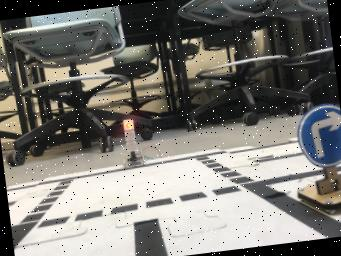right: (297, 103, 341, 214), (297, 103, 341, 214), (297, 103, 341, 214), (297, 103, 341, 214), (297, 103, 341, 214), (297, 103, 341, 214)
street: (6, 142, 341, 256), (6, 142, 341, 256), (6, 142, 341, 256), (6, 142, 341, 256), (6, 142, 341, 256), (6, 142, 341, 256)
traffic_light: (122, 118, 145, 167), (122, 118, 145, 167), (122, 118, 145, 167), (122, 118, 145, 167), (122, 118, 145, 167), (122, 118, 145, 167)
